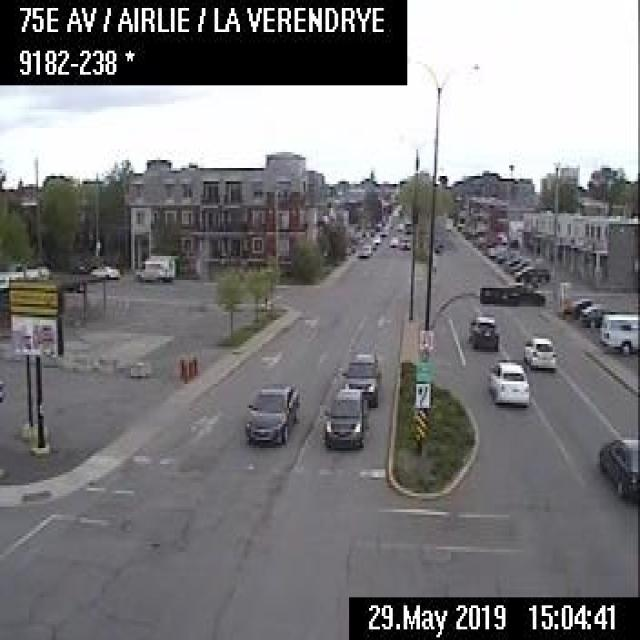construction: (181, 357, 187, 381), (190, 352, 196, 376), (186, 357, 192, 378)
vehicle: (242, 379, 300, 445), (596, 432, 638, 507), (320, 388, 366, 450), (342, 348, 381, 408), (484, 358, 528, 408), (599, 310, 638, 356), (132, 251, 174, 282), (522, 333, 555, 371), (467, 312, 500, 349), (512, 264, 550, 286), (579, 300, 610, 326), (505, 282, 543, 302), (560, 294, 591, 318), (89, 259, 122, 280), (356, 240, 371, 256), (388, 236, 398, 248), (399, 237, 409, 249), (370, 232, 380, 244)
